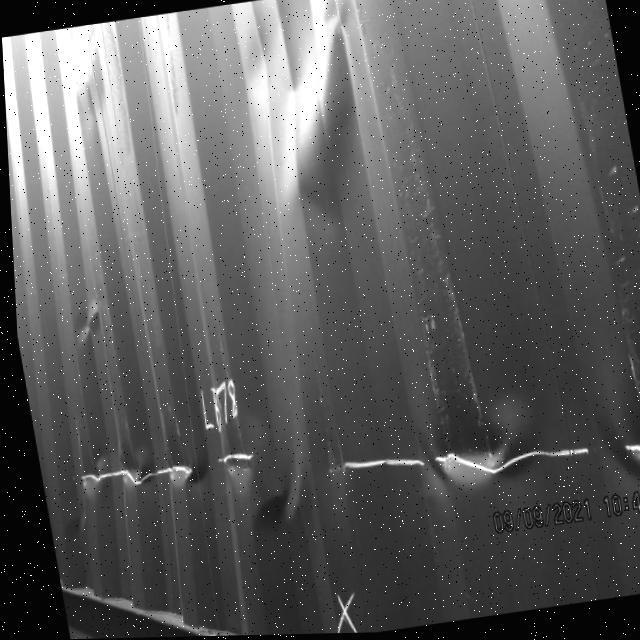dent: (35, 377, 331, 561), (394, 351, 640, 527), (50, 26, 134, 133)
